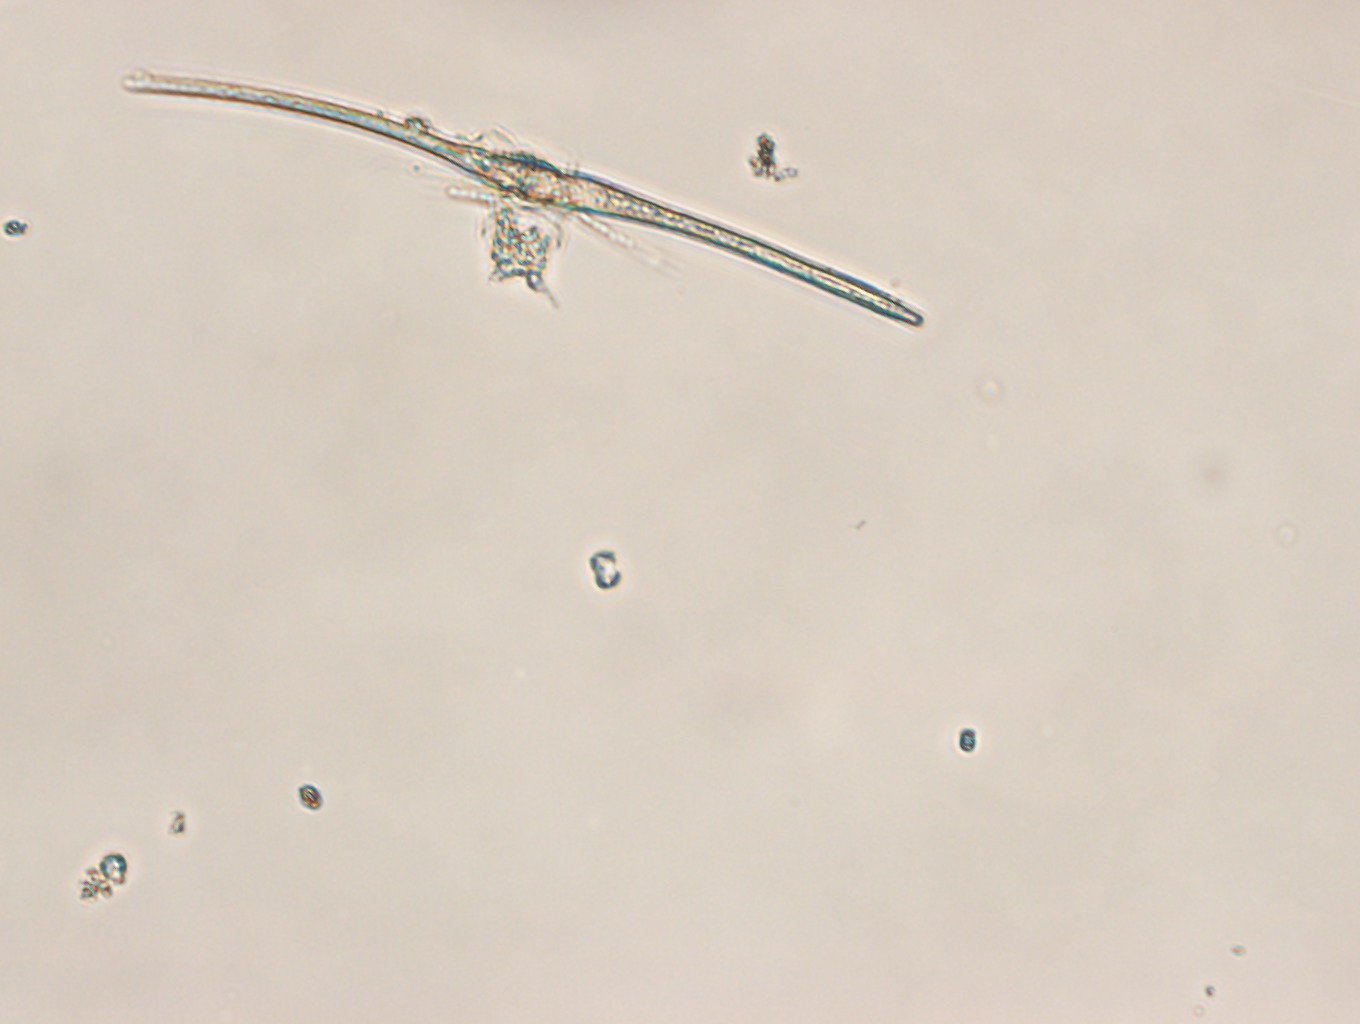ceratium fusus: (105, 56, 926, 332)
